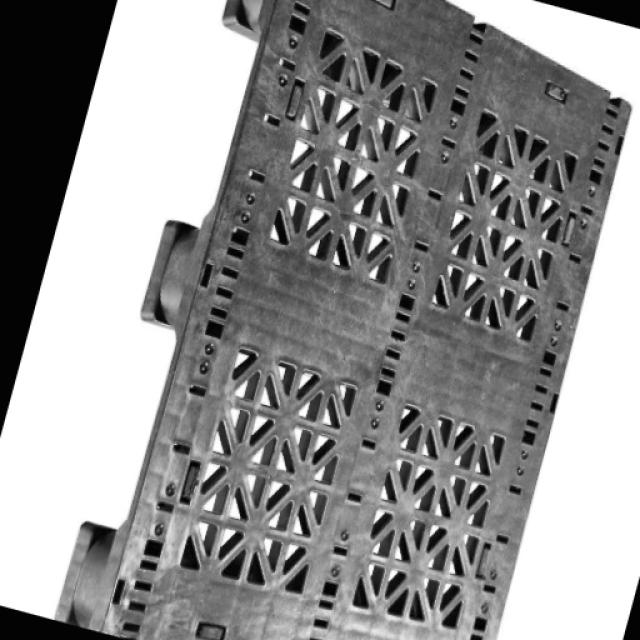non-igps: (49, 0, 637, 640)
